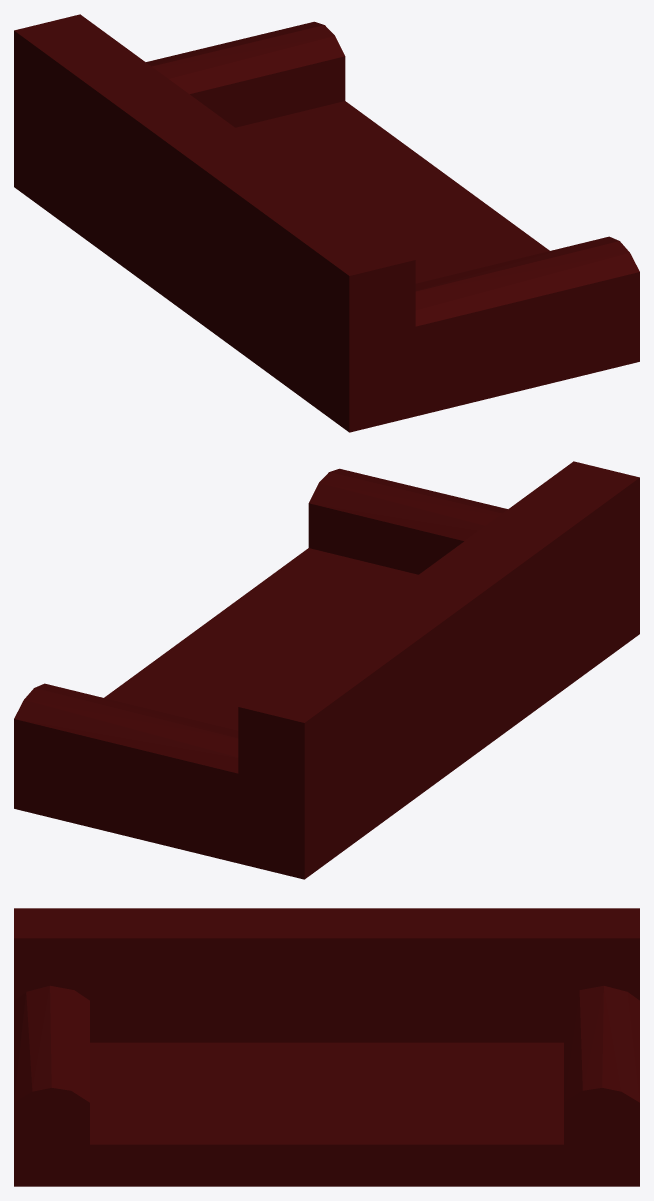
Rendered from Sofa.obj.
3 renders of one model, top to bottom at view 1: azimuth 30°, elevation 25°; view 2: azimuth 150°, elevation 25°; view 3: azimuth 270°, elevation 25°, orthographic. The views are drawn at different scales.
Visible parts, largest first — view 1: Plane; view 2: Plane; view 3: Plane.
Part boxes in pixels (<box>): Plane: <box>14,14,639,432</box>; Plane: <box>14,461,639,879</box>; Plane: <box>14,908,639,1186</box>.
Bounding box in the file's own units: 1 × 0.5151 × 2.
